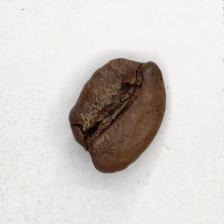NG: (69, 97, 116, 174)
